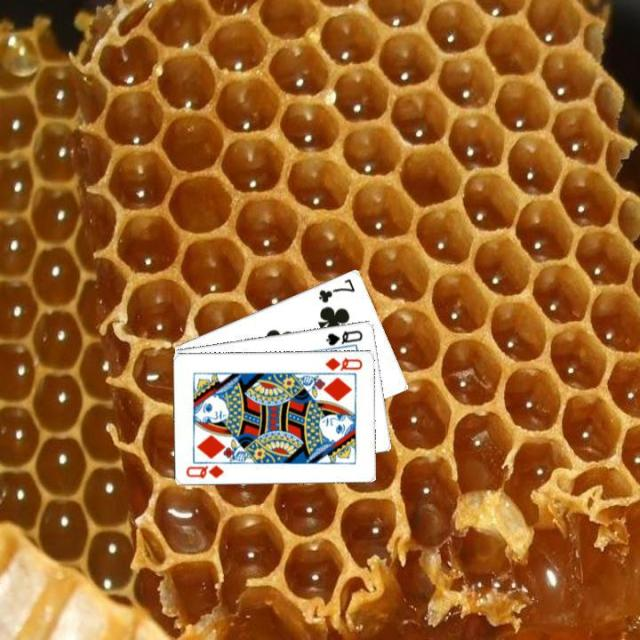7C: (314, 275, 356, 304)
QD: (182, 461, 226, 480), (321, 353, 364, 372)
QS: (322, 326, 364, 347)
